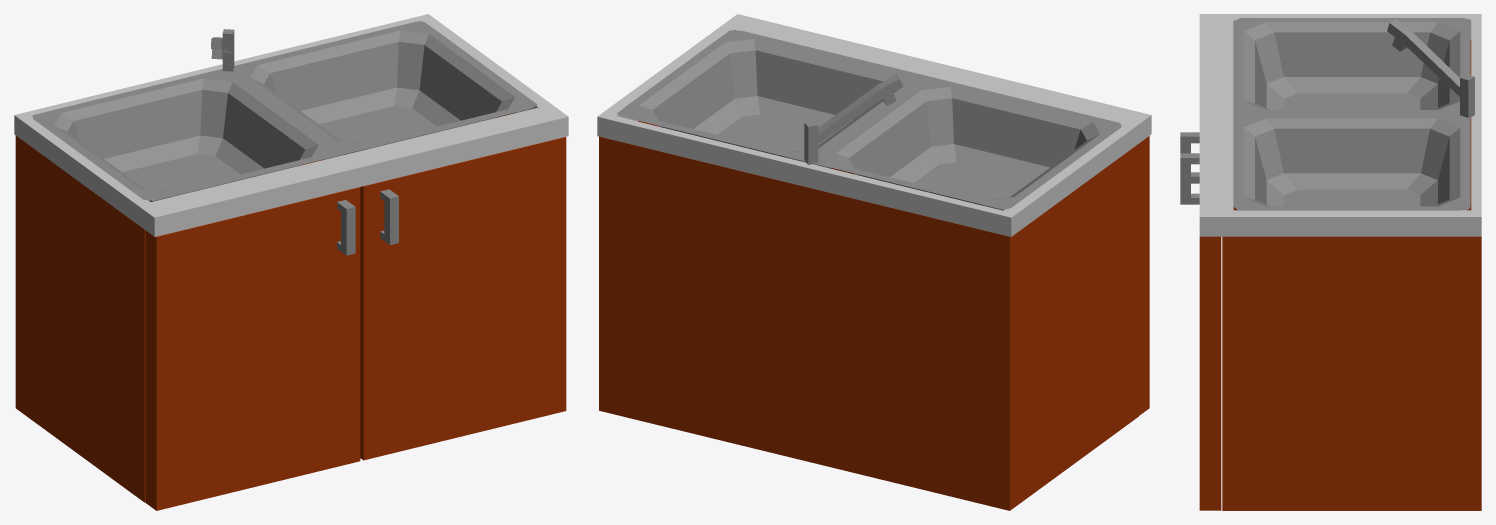
The model's file is lavello_doppio_Scene.obj.
3 views of the same model, side by side, from view 1: azimuth 30°, elevation 25°; view 2: azimuth 150°, elevation 25°; view 3: azimuth 270°, elevation 25° (orthographic).
Visible parts, largest first — view 1: Cube.002_Cube.002_Wood_Cherry, Plane_Plane_Aluminum, Plane.001_Plane.001_Material, Cube.002_Cube.002_Aluminum, Cube.001_Cube.001_Aluminum; view 2: Cube.002_Cube.002_Wood_Cherry, Plane_Plane_Aluminum, Plane.001_Plane.001_Material, Cube.001_Cube.001_Aluminum; view 3: Cube.002_Cube.002_Wood_Cherry, Plane_Plane_Aluminum, Plane.001_Plane.001_Material, Cube.001_Cube.001_Aluminum, Cube.002_Cube.002_Aluminum.
Boxes of the visible parts, x1,y1,x2,y2 form: Cube.002_Cube.002_Wood_Cherry: [15, 112, 566, 510]; Plane_Plane_Aluminum: [32, 21, 537, 201]; Plane.001_Plane.001_Material: [14, 14, 568, 236]; Cube.002_Cube.002_Aluminum: [337, 189, 398, 255]; Cube.001_Cube.001_Aluminum: [211, 29, 234, 71]; Cube.002_Cube.002_Wood_Cherry: [599, 121, 1149, 510]; Plane_Plane_Aluminum: [617, 30, 1121, 210]; Plane.001_Plane.001_Material: [597, 14, 1151, 236]; Cube.001_Cube.001_Aluminum: [804, 75, 902, 164]; Cube.002_Cube.002_Wood_Cherry: [1199, 40, 1481, 510]; Plane_Plane_Aluminum: [1233, 18, 1470, 210]; Plane.001_Plane.001_Material: [1199, 14, 1481, 236]; Cube.001_Cube.001_Aluminum: [1387, 19, 1474, 117]; Cube.002_Cube.002_Aluminum: [1180, 132, 1199, 204].
Size of the model in its own units: 4.44 by 3.73 by 2.79.
